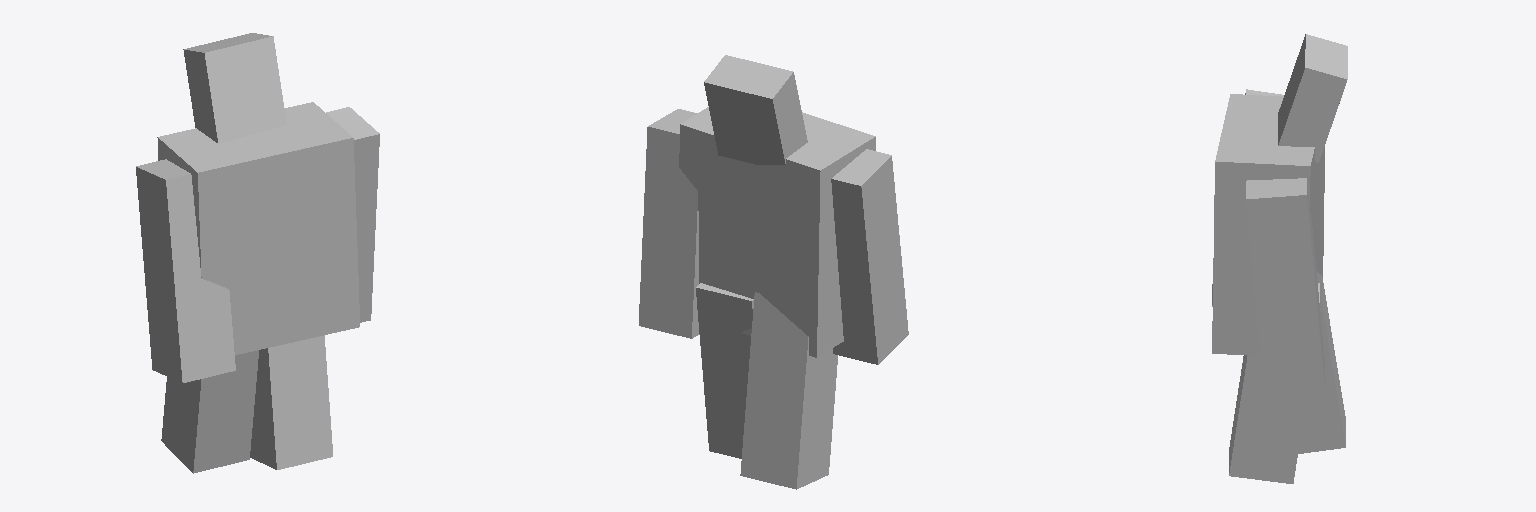
The model's file is walk_000013.obj.
3 renders of one model, left to right at view 1: azimuth 30°, elevation 25°; view 2: azimuth 150°, elevation 25°; view 3: azimuth 270°, elevation 25°, orthographic.
Parts seen in each view (by area): view 1: Cube, leg.003_Cube.002, leg.001_Cube.007, Cube.001_Cube.003, leg_Cube.001, leg.002_Cube.006; view 2: Cube, leg_Cube.001, leg.003_Cube.002, leg.002_Cube.006, leg.001_Cube.007, Cube.001_Cube.003, Plane.002; view 3: Cube, leg.002_Cube.006, leg.001_Cube.007, Cube.001_Cube.003, leg_Cube.001.
Boxes of the visible parts, box(x1,y1,x2,y2) form: Cube: box(157, 102, 359, 354); leg.003_Cube.002: box(136, 159, 235, 383); leg.001_Cube.007: box(250, 335, 332, 469); Cube.001_Cube.003: box(183, 33, 286, 143); leg_Cube.001: box(161, 350, 258, 473); leg.002_Cube.006: box(326, 107, 379, 322); Cube: box(679, 107, 875, 357); leg_Cube.001: box(740, 292, 837, 489); leg.003_Cube.002: box(831, 149, 908, 364); leg.002_Cube.006: box(639, 109, 699, 338); leg.001_Cube.007: box(696, 283, 753, 458); Cube.001_Cube.003: box(704, 55, 807, 164); Plane.002: box(724, 127, 773, 162); Cube: box(1212, 94, 1324, 355); leg.002_Cube.006: box(1246, 178, 1324, 392); leg.001_Cube.007: box(1229, 283, 1319, 483); Cube.001_Cube.003: box(1278, 34, 1347, 162); leg_Cube.001: box(1298, 272, 1345, 453).
Size of the model in its own units: 3.47 by 6.29 by 1.91.